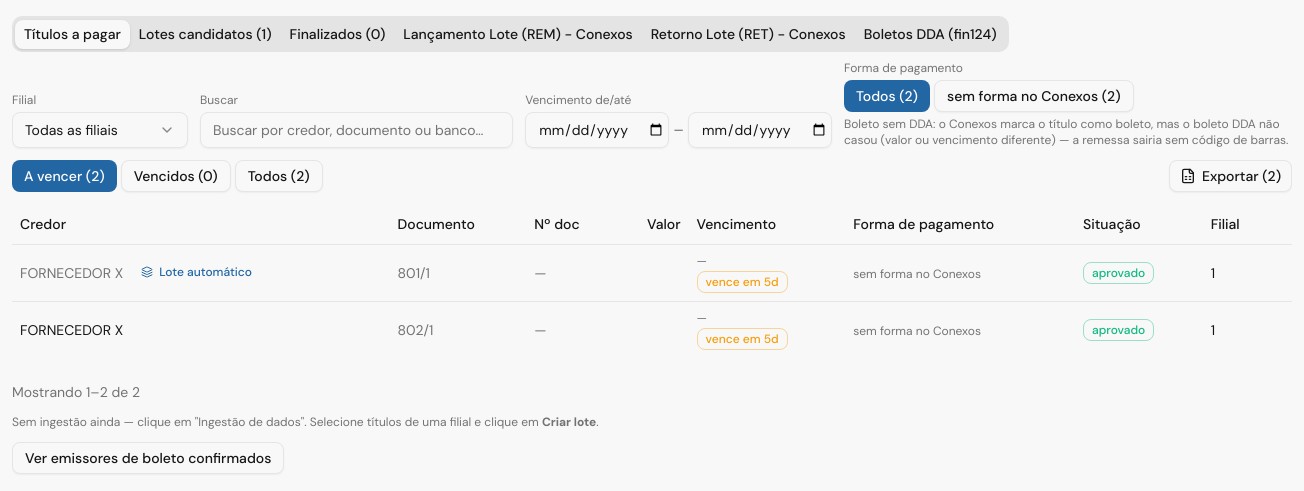
Scenario: SispagPage — só sispag:ver › retornos: "Processar e conciliar" não aparece (a lista continua)
Click the tab "Retorno Lote (RET) - Conexos": (748, 34) x1=642 y1=20 x2=855 y2=48
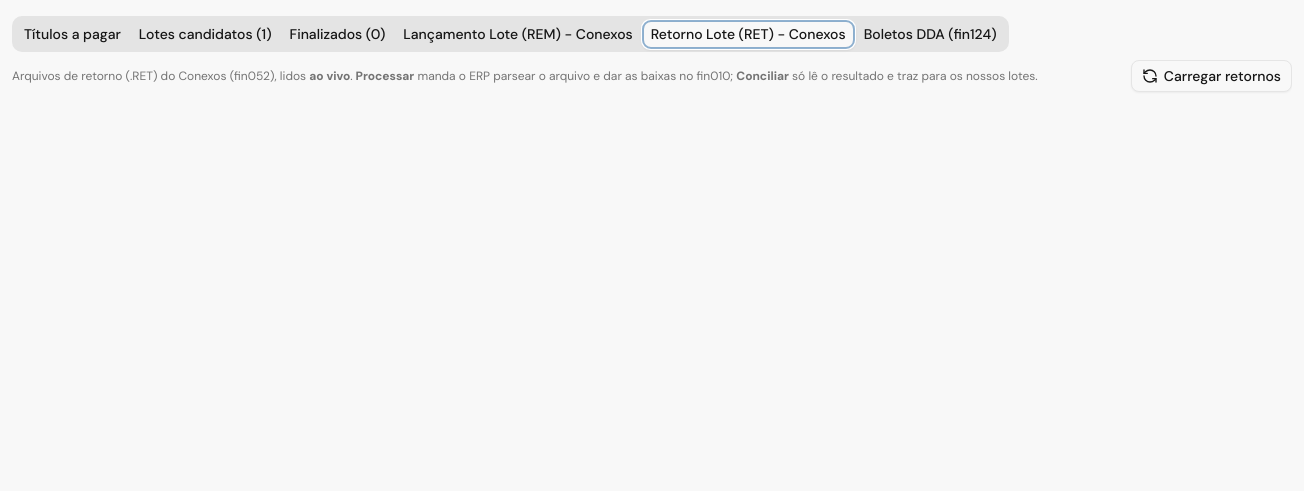
Click the button "Carregar retornos": (1211, 76) x1=1131 y1=60 x2=1292 y2=92
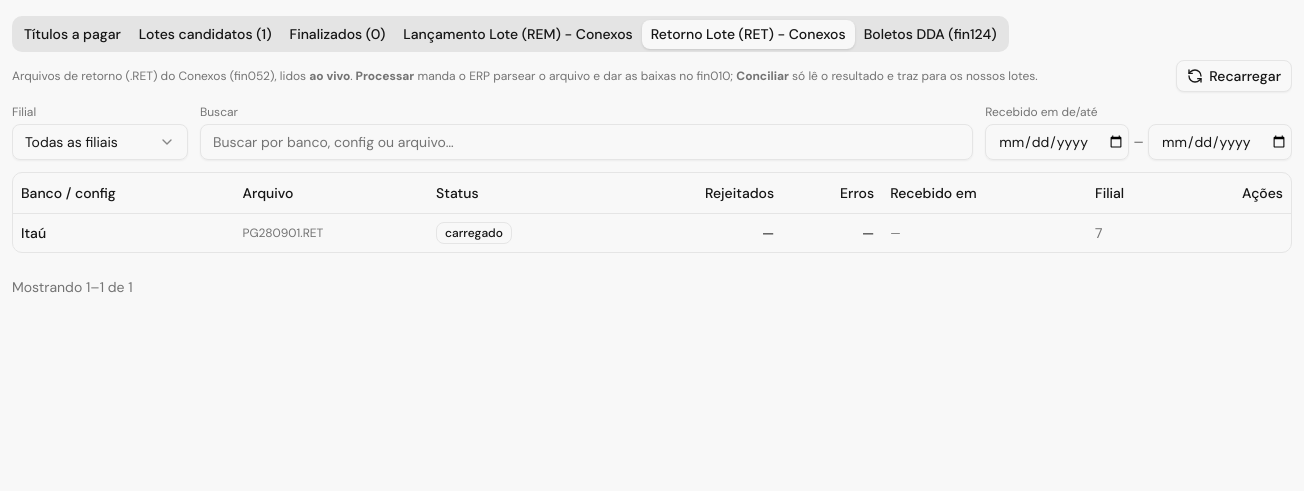
expect the text "PG280901.RET" is shown: met, box x1=234 y1=213 x2=428 y2=252
